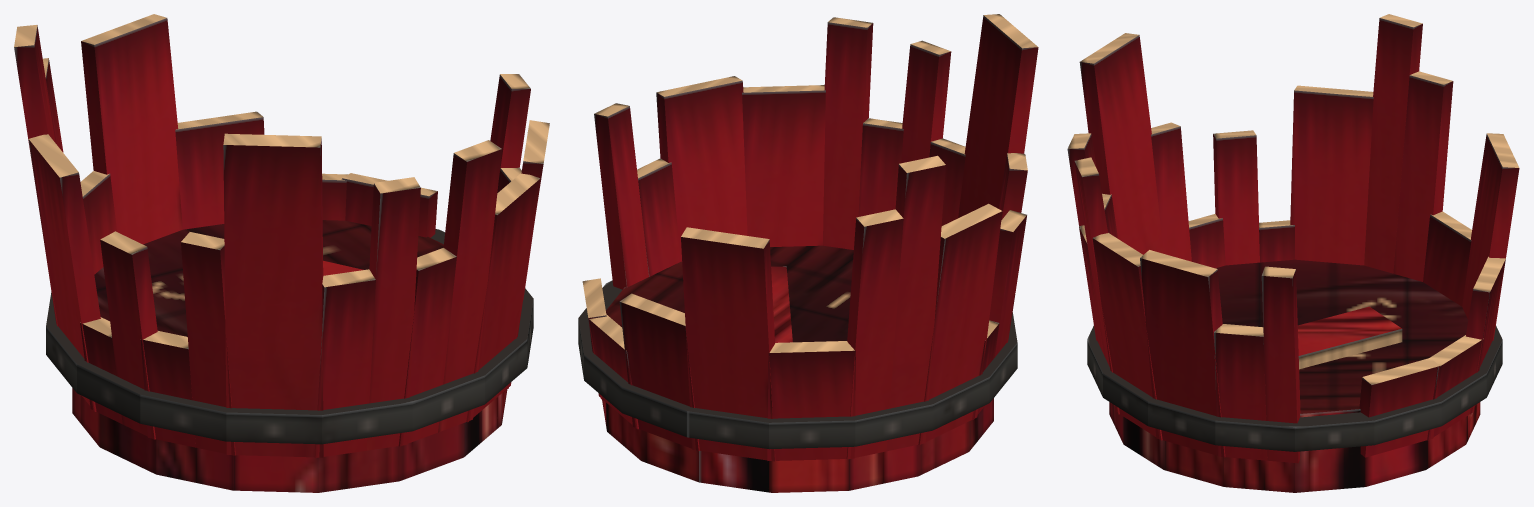
File: barrel-wreck.obj
The picture shows the model from 3 angles, left to right: view 1: azimuth 30°, elevation 25°; view 2: azimuth 150°, elevation 25°; view 3: azimuth 270°, elevation 25°; orthographic projection. The views are drawn at different scales.
Bounding box in the file's own units: 0.3602 × 0.2811 × 0.3656.
Materials: 1 (1 with a texture image).
